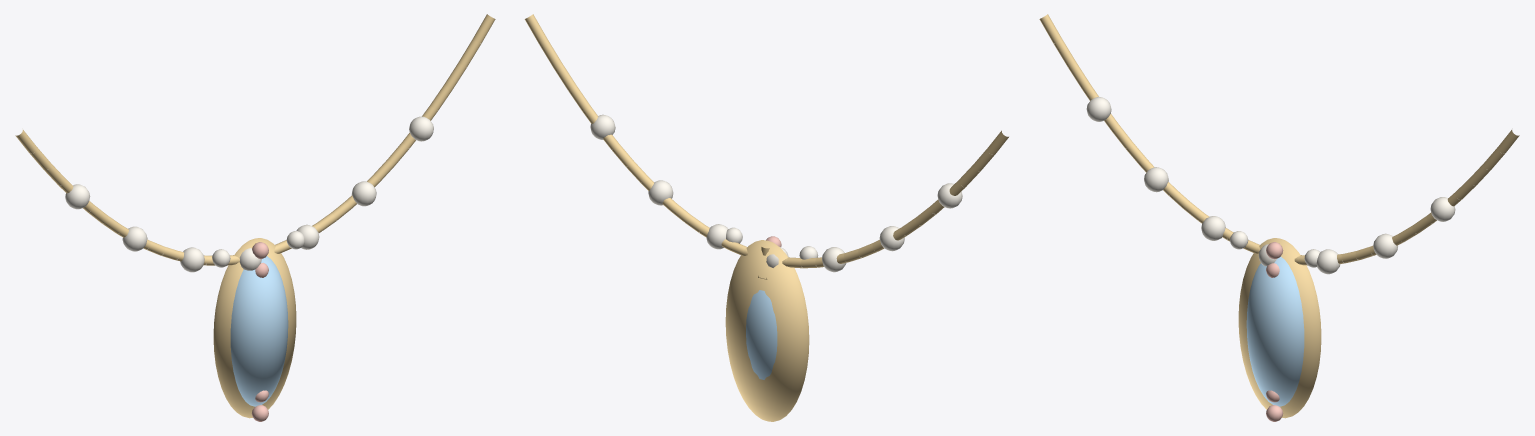
File: oval-necklace.v2.safe.glb
The picture shows the model from 3 angles, left to right: view 1: azimuth 30°, elevation 25°; view 2: azimuth 150°, elevation 25°; view 3: azimuth 330°, elevation 25°; orthographic projection.
Visible parts, largest first — view 1: safe-commercial-necklace; view 2: safe-commercial-necklace; view 3: safe-commercial-necklace.
Boxes of the visible parts, left/top/right/bottom form: safe-commercial-necklace: left=15, top=14, right=495, bottom=421; safe-commercial-necklace: left=524, top=14, right=1008, bottom=421; safe-commercial-necklace: left=1039, top=14, right=1519, bottom=421.
Bounding box in the file's own units: 1.54 × 1.06 × 0.1034.
